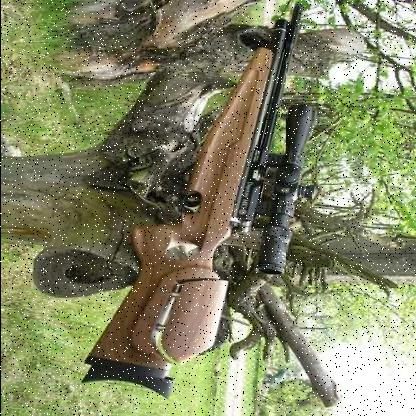rifle: (84, 7, 339, 395)
